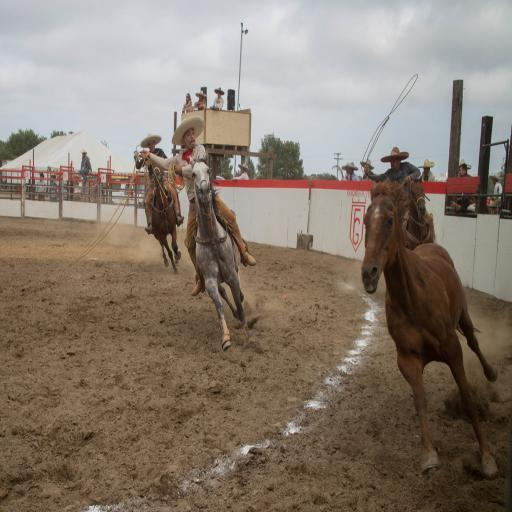horse: (360, 180, 500, 480), (188, 149, 256, 353), (150, 152, 184, 276), (404, 175, 436, 246)
